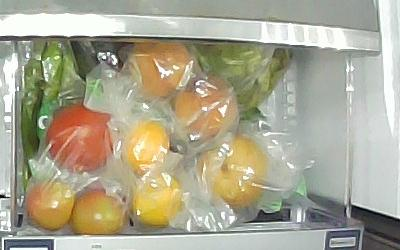peach_vinyl: (175, 77, 242, 151)
pear_vinyl: (193, 135, 269, 208), (129, 42, 189, 99)
tangerine_vinyl: (131, 173, 182, 230), (120, 121, 171, 177)
tomato_vinyl: (48, 105, 114, 172), (25, 175, 73, 232), (71, 188, 127, 235)
